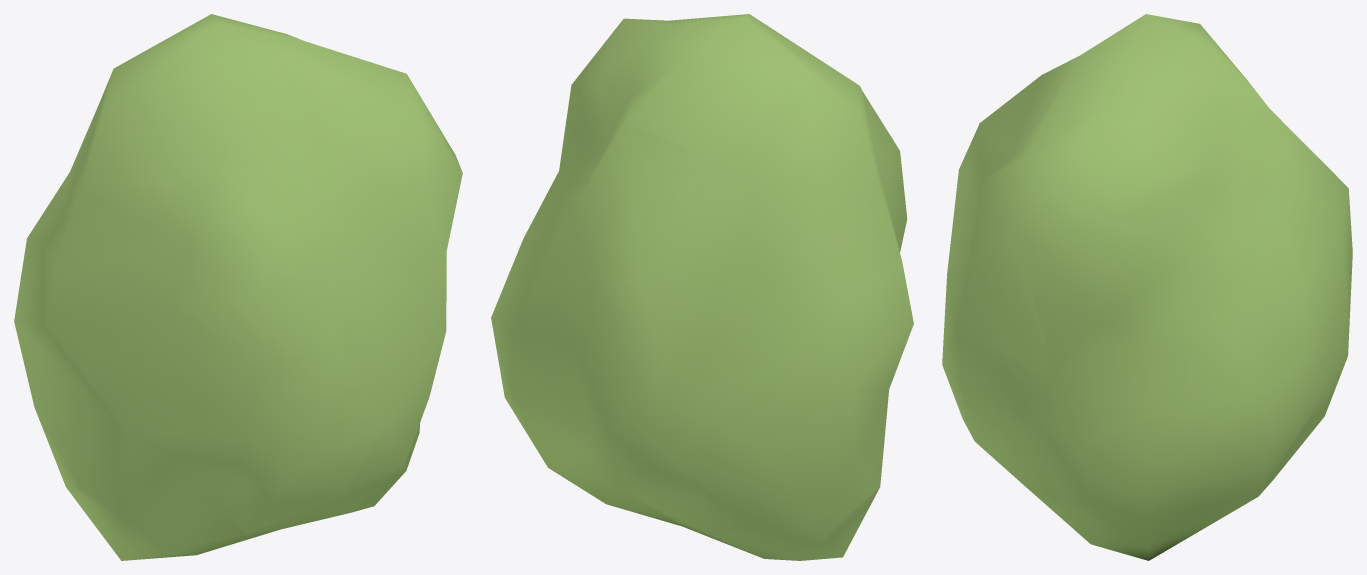
The picture shows the model from 3 angles, left to right: view 1: azimuth 30°, elevation 25°; view 2: azimuth 150°, elevation 25°; view 3: azimuth 270°, elevation 25°; orthographic projection. The views are drawn at different scales.
Parts seen in each view (by area): view 1: Bush; view 2: Bush; view 3: Bush.
Part boxes in pixels (x1,y1,x2,y2): Bush: [14, 14, 462, 560]; Bush: [491, 14, 913, 560]; Bush: [942, 14, 1352, 560].
Bounding box in the file's own units: 4.5 × 6 × 4.52.
Materials: 1 (1 with a texture image).
